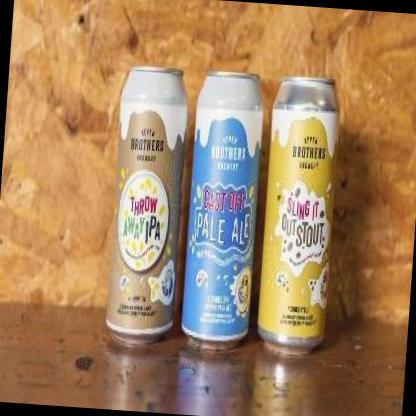alumunium_can: (254, 70, 345, 359), (102, 61, 192, 350), (178, 66, 268, 354)
